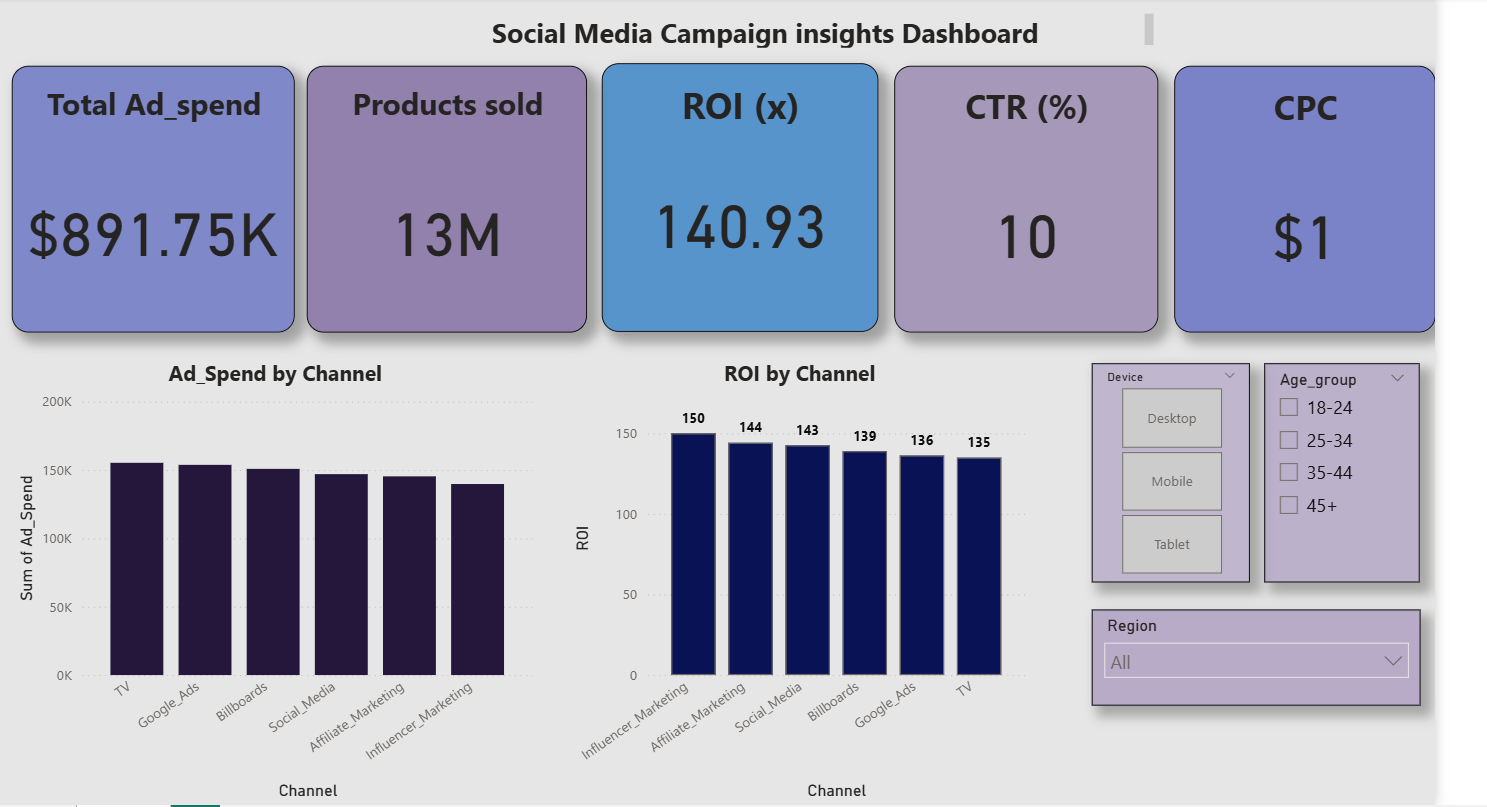

This screenshot's page, from the dashboard's own definition file:
{"tool":"powerbi","page":{"name":"Page 1","canvas":[1280,720],"ordinal":0},"visuals":[{"type":"card","title":"Total Ad_spend","fields":{"Values":["Advertising_Data.Total_Ad_Spend"]},"box":[12.1,61.5,252.1,237.7],"z":0},{"type":"card","title":"Products sold","fields":{"Values":["Sum(Advertising_Data.Product_Sold)"]},"box":[275.1,61.5,249.7,237.7],"z":1},{"type":"card","title":"ROI (x)","fields":{"Values":["Advertising_Data.ROI"]},"box":[542.9,61.5,246.1,238.9],"z":2},{"type":"card","title":"CTR (%)","fields":{"Values":["Advertising_Data.CTR"]},"box":[798.7,61.5,235.3,237.7],"z":3},{"type":"card","title":"CPC","fields":{"Values":["Advertising_Data.CPC"]},"box":[1047.2,61.5,232.8,237.7],"z":4},{"type":"clusteredColumnChart","title":"Ad_Spend by Channel","fields":{"Category":["Advertising_Data.Channel"],"Y":["Sum(Advertising_Data.Ad_Spend)"]},"box":[12.1,322.1,469.3,398.1],"z":5},{"type":"clusteredColumnChart","fields":{"Category":["Advertising_Data.Channel"],"Y":["Advertising_Data.ROI"]},"box":[507.9,322.1,412.6,398.1],"z":6},{"type":"slicer","fields":{"Values":["Advertising_Data.Region"]},"box":[973.6,545.3,293.2,85.7],"z":7},{"type":"slicer","fields":{"Values":["Advertising_Data.Age_group"]},"box":[1128,325.7,138.7,195.4],"z":8},{"type":"slicer","fields":{"Values":["Advertising_Data.Device"]},"box":[973.6,325.7,141.2,195.4],"z":9},{"type":"textbox","box":[242.5,9.7,791.4,39.8],"z":10}]}

Visuals, with their boxes on the page's 1280x720 design canvas (x1, y1, x2, y2). These are canvas units, not pixel positions in the 1487x807 screenshot, which may show the page scaled, cropped or inside an application window:
"Total Ad_spend" card: (12, 62, 264, 299)
"Products sold" card: (275, 62, 525, 299)
"ROI (x)" card: (543, 62, 789, 300)
"CTR (%)" card: (799, 62, 1034, 299)
"CPC" card: (1047, 62, 1280, 299)
"Ad_Spend by Channel" clusteredColumnChart: (12, 322, 481, 720)
clusteredColumnChart - Advertising_Data.Channel x Advertising_Data.ROI: (508, 322, 920, 720)
slicer - Advertising_Data.Region: (974, 545, 1267, 631)
slicer - Advertising_Data.Age_group: (1128, 326, 1267, 521)
slicer - Advertising_Data.Device: (974, 326, 1115, 521)
textbox: (242, 10, 1034, 50)
